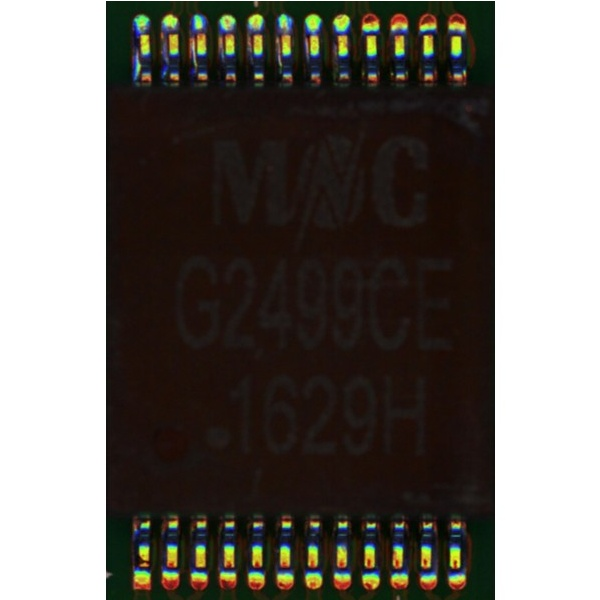Bad_qiaojiao: (274, 33, 280, 71), (190, 33, 196, 69), (217, 33, 223, 62), (303, 34, 308, 62), (246, 34, 251, 62)
